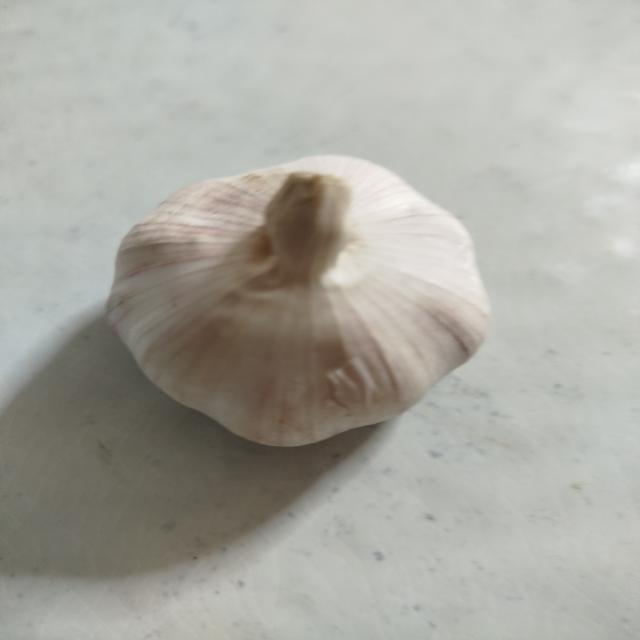garlic: (104, 153, 492, 448)
